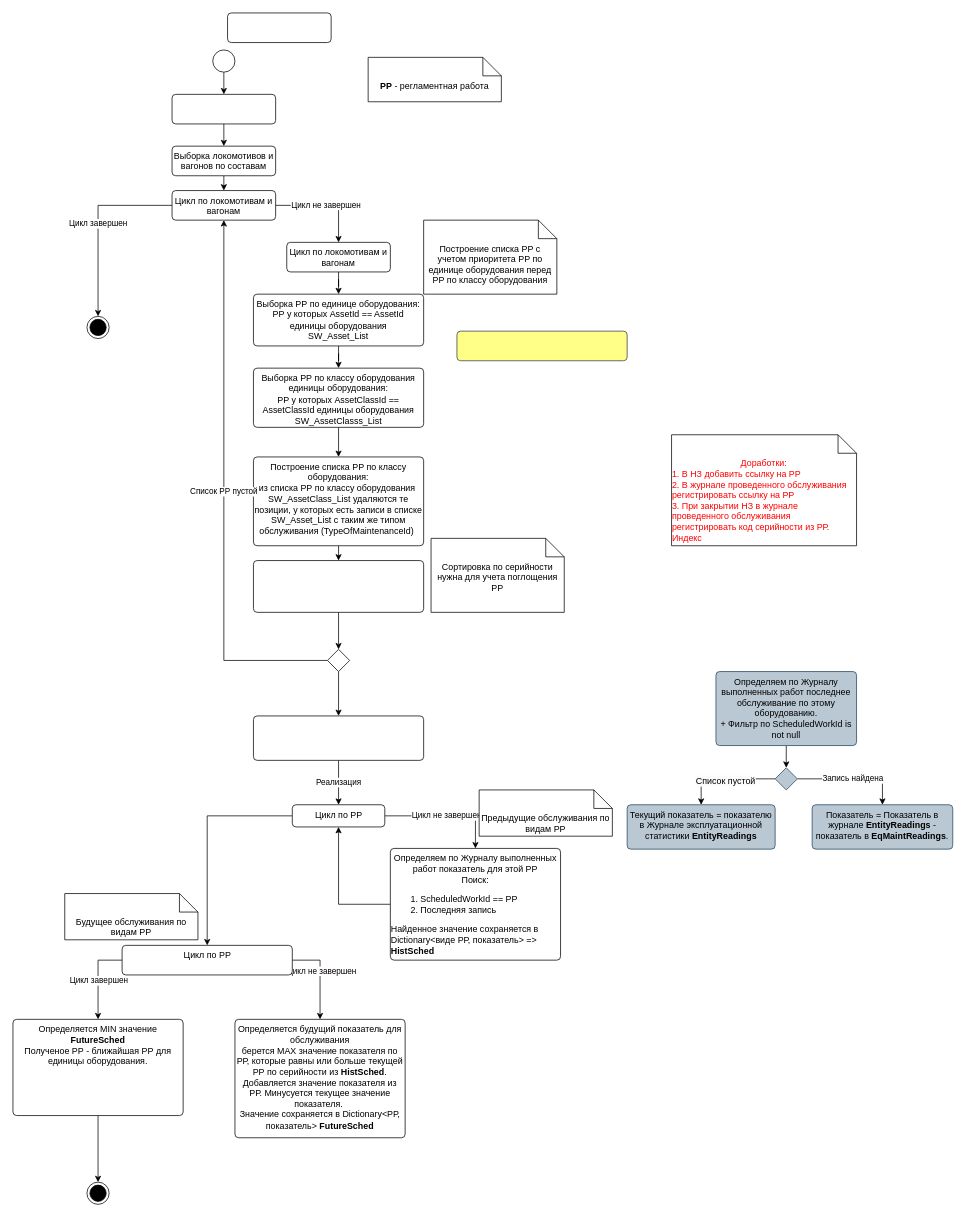
Some shapes in this 966 by 1217 pixel diagram are drawn without their labels. Each missing label, with the box of its shape:
Выборка составов: (171, 94, 276, 124)
Группировка по типам показателей: (456, 330, 627, 361)
Объединение списков РР в один и сортировка по полю серийности ( Seriality ).: (253, 560, 424, 612)
Определение показателя на момент последнего обслуживания - по каждой серийности: (253, 715, 424, 760)
Построение дэшборда РР по составам: (227, 12, 331, 43)
